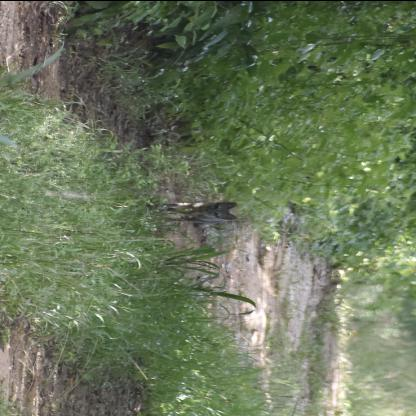zorro: (153, 193, 243, 229)
